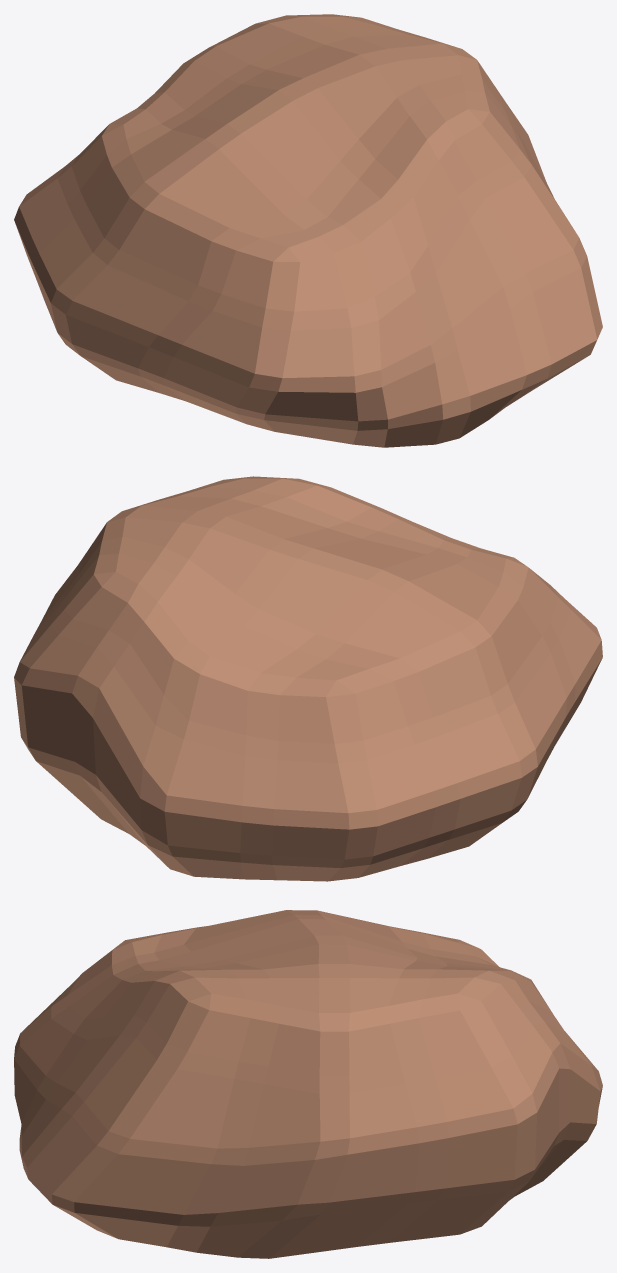
The model's file is rock_1_garden.fbx.
The picture shows the model from 3 angles, top to bottom: view 1: azimuth 30°, elevation 25°; view 2: azimuth 150°, elevation 25°; view 3: azimuth 270°, elevation 25°; orthographic projection. The views are drawn at different scales.
Visible parts, largest first — view 1: rock_1_garden; view 2: rock_1_garden; view 3: rock_1_garden.
Part boxes in pixels (x1,y1,x2,y2): rock_1_garden: (14,14,602,447); rock_1_garden: (14,476,602,881); rock_1_garden: (14,910,602,1258).
Size of the model in its own units: 58.37 by 30.95 by 65.22.
